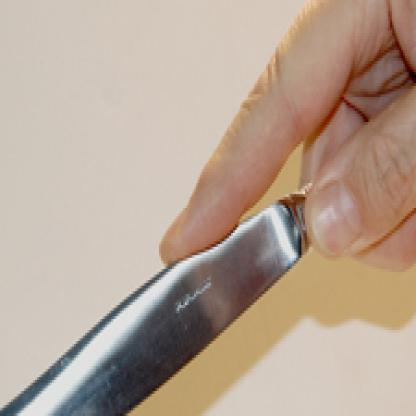knife: (0, 39, 379, 413)
